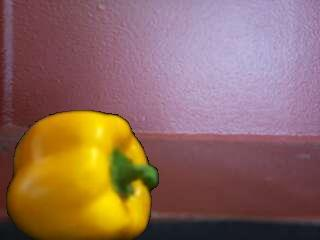Capsicum: (5, 110, 164, 240)
